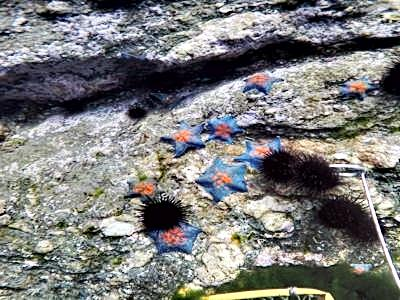urchin: (344, 195, 381, 241), (137, 194, 183, 226), (297, 153, 335, 190), (317, 197, 349, 225), (264, 153, 293, 177), (130, 105, 144, 117)
